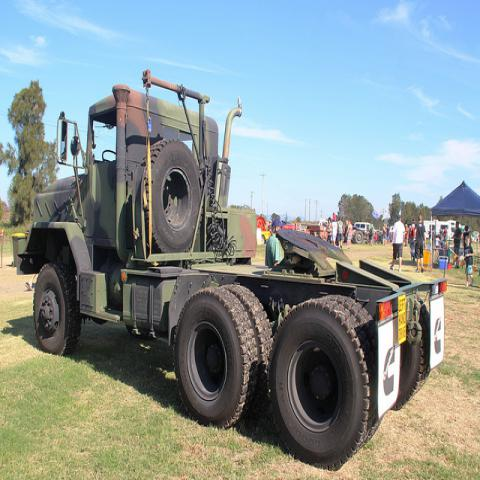car: (261, 230, 271, 245), (299, 224, 306, 230)
truck: (17, 68, 449, 471)
